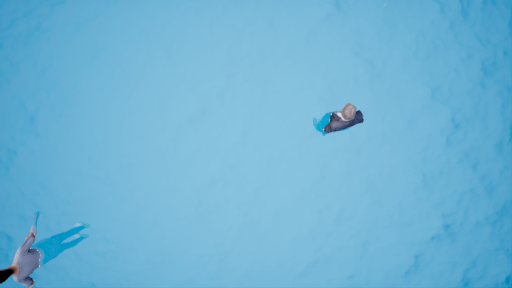person: (1, 205, 96, 288), (307, 94, 372, 137)
